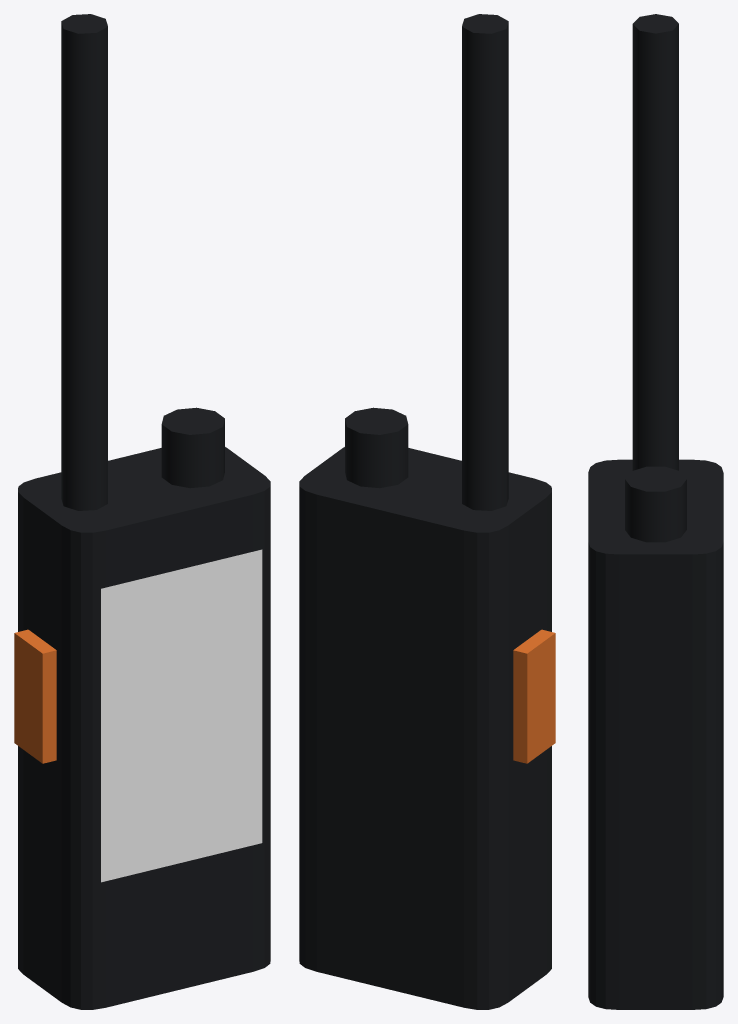
The model's file is toolkit--radio.glb.
3 views of the same model, side by side, from view 1: azimuth 30°, elevation 25°; view 2: azimuth 150°, elevation 25°; view 3: azimuth 270°, elevation 25° (orthographic). The views are drawn at different scales.
Visible parts, largest first — view 1: radio:shell, screen, ptt; view 2: radio:shell, ptt; view 3: radio:shell.
Boxes of the visible parts, x1,y1,x2,y2 form: radio:shell: [18, 14, 270, 1009]; screen: [101, 549, 262, 882]; ptt: [14, 629, 56, 763]; radio:shell: [299, 14, 551, 1009]; ptt: [513, 629, 555, 763]; radio:shell: [588, 14, 723, 1009].
Bounding box in the file's own units: 0.062 × 0.26 × 0.036.
